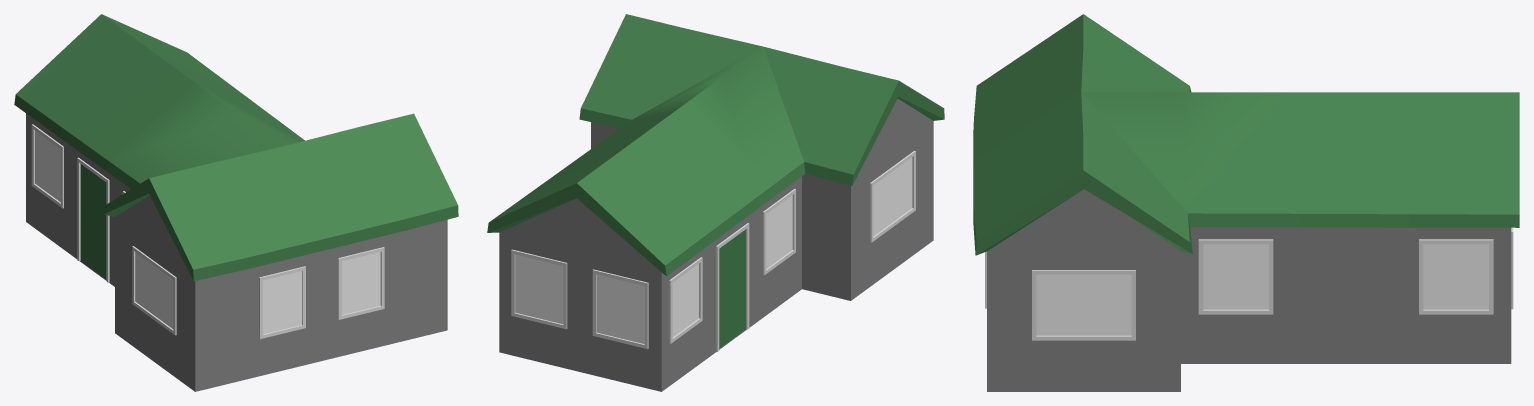
The model's file is ParkingLotBuilding.FBX.
3 views of the same model, side by side, from view 1: azimuth 30°, elevation 25°; view 2: azimuth 150°, elevation 25°; view 3: azimuth 270°, elevation 25° (orthographic). The views are drawn at different scales.
Parts seen in each view (by area): view 1: Box001; view 2: Box001; view 3: Box001.
Boxes of the visible parts, <box> form: Box001: <box>14,14,458,391</box>; Box001: <box>487,14,944,391</box>; Box001: <box>973,14,1519,391</box>.
Size of the model in its own units: 44.85 by 30.14 by 66.18.
Materials: 1 (1 with a texture image).
